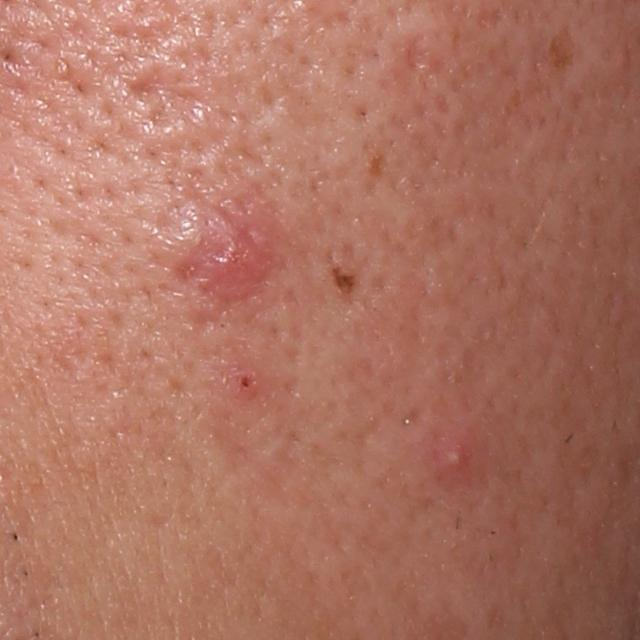atrophic_scar: (123, 61, 209, 139), (406, 28, 433, 74)
papule: (188, 215, 285, 298), (229, 358, 270, 400)
pustule: (437, 438, 480, 481)
